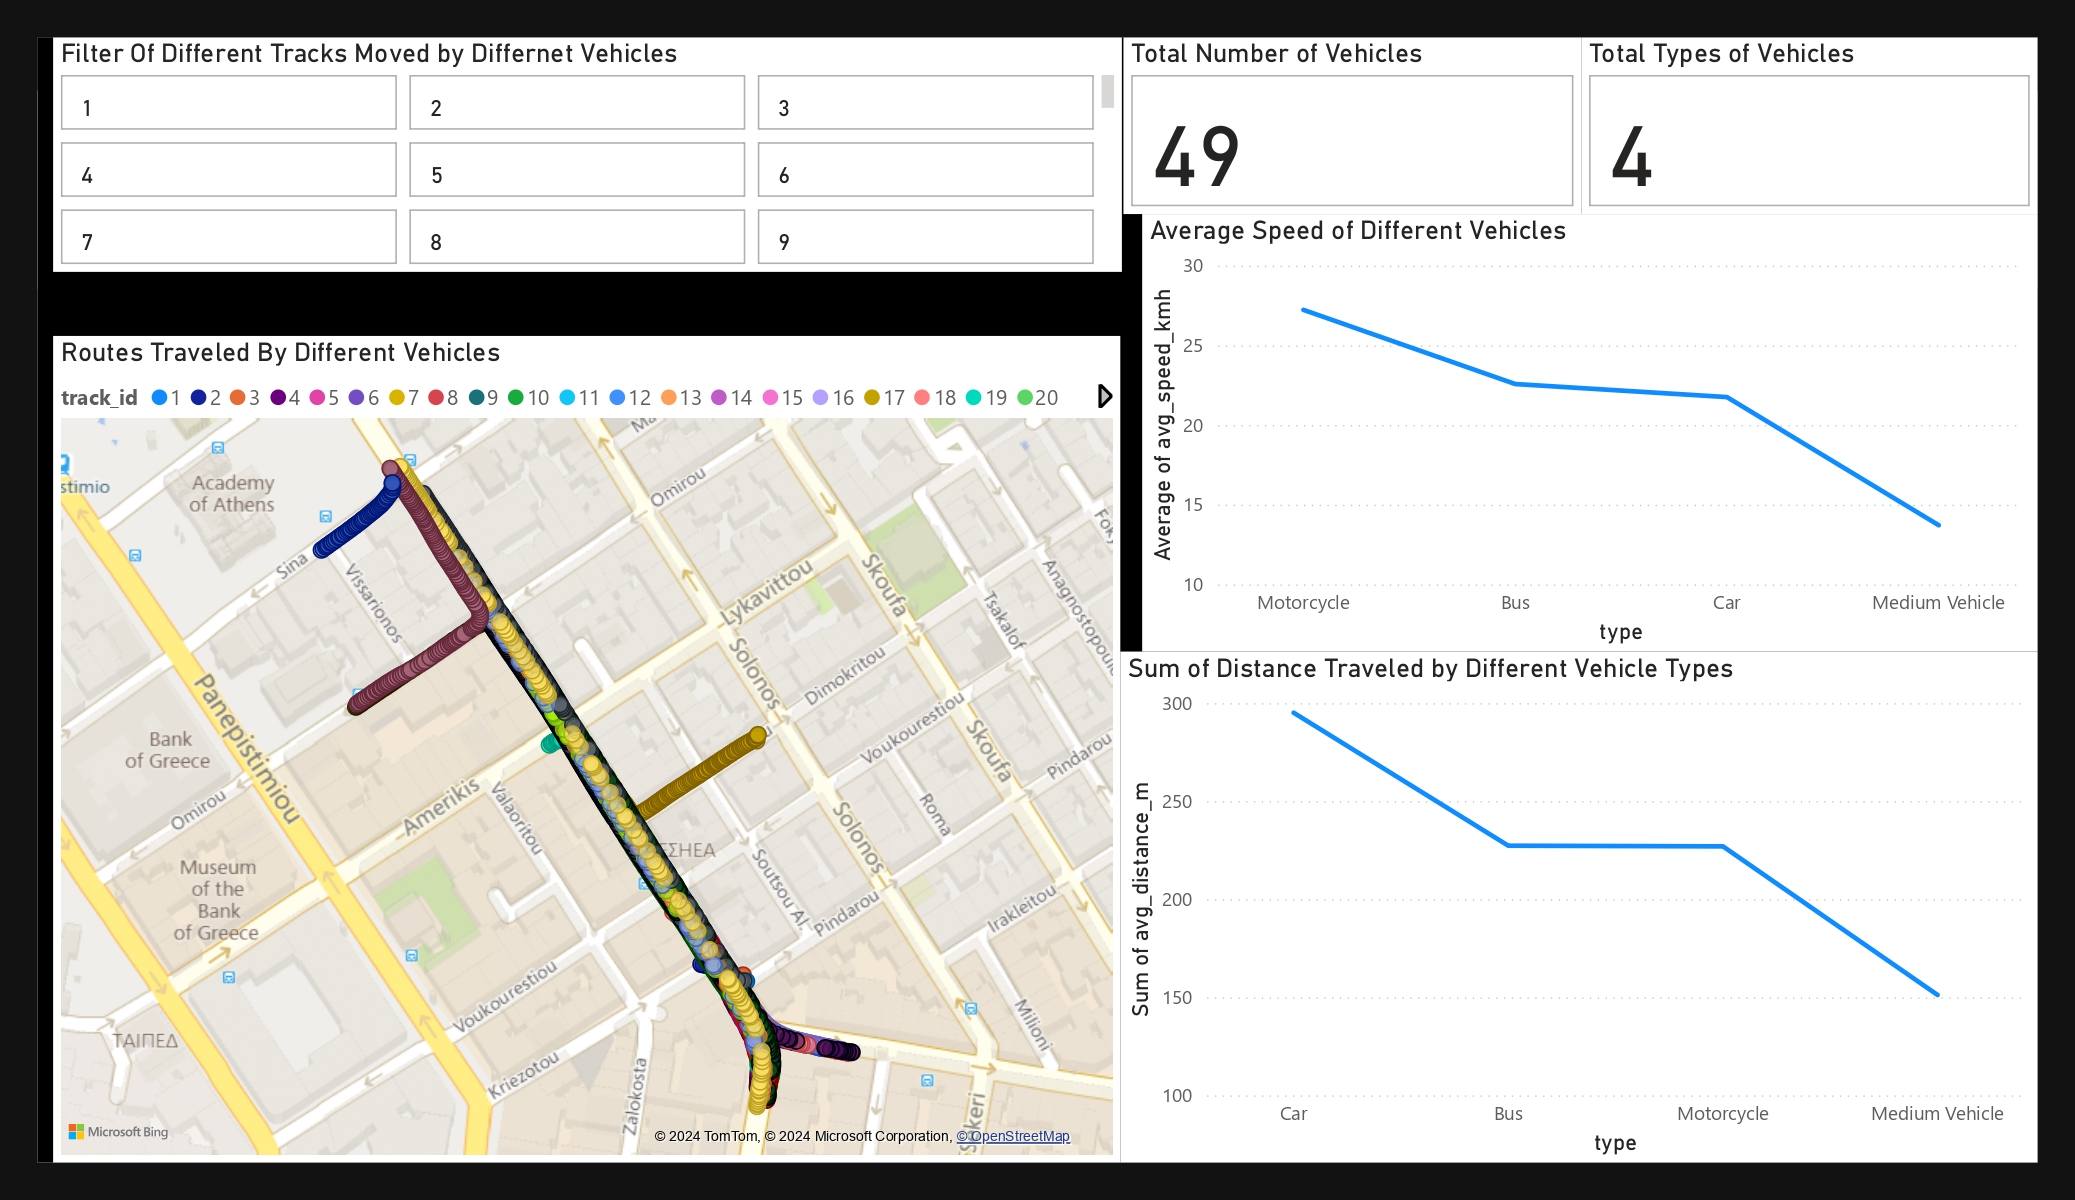

The dashboard page shown, as its layout file describes it:
{"tool":"powerbi","page":{"name":"Overview","canvas":[1280,720],"ordinal":0},"visuals":[{"type":"map","title":"Routes Traveled By Different Vehicles","fields":{"Y":["public dimensional_df.lat"],"X":["public dimensional_df.lon"],"Series":["public dimensional_df.track_id"]},"box":[9.9,190.6,683.5,529.1],"z":0},{"type":"lineChart","title":"Sum of Distance Traveled by Different Vehicle Types","fields":{"Category":["public average_distance_by_vehicle_type.type"],"Y":["Sum(public average_distance_by_vehicle_type.avg_distance_m)"]},"box":[693.4,392.7,586.6,327],"z":1000},{"type":"cardVisual","title":"Total Number of Vehicles","fields":{"Data":["CountNonNull(public fact_df.traveled_d)"]},"box":[695,0,292.5,113.4],"z":2000},{"type":"cardVisual","title":"Total Types of Vehicles","fields":{"Data":["Count(public fact_df.type)"]},"box":[987.5,0,292.5,113.4],"z":3000},{"type":"advancedSlicerVisual","title":"Filter Of Different Tracks Moved by Differnet Vehicles","fields":{"Values":["public dimensional_df.track_id"]},"box":[10,0,684,150],"z":4000},{"type":"lineChart","title":"Average Speed of Different Vehicles","fields":{"Y":["Avg(public average_speed_by_vehicle_type.avg_speed_kmh)"],"Category":["public average_speed_by_vehicle_type.type"]},"box":[706.5,113.4,573.5,279.3],"z":5000}]}

Visuals, with their boxes on the page's 1280x720 design canvas (x1, y1, x2, y2). These are canvas units, not pixel positions in the 2075x1200 screenshot, which may show the page scaled, cropped or inside an application window:
"Routes Traveled By Different Vehicles" map: crop(10, 191, 693, 720)
"Sum of Distance Traveled by Different Vehicle Types" lineChart: crop(693, 393, 1280, 720)
"Total Number of Vehicles" cardVisual: crop(695, 0, 988, 113)
"Total Types of Vehicles" cardVisual: crop(988, 0, 1280, 113)
"Filter Of Different Tracks Moved by Differnet Vehicles" advancedSlicerVisual: crop(10, 0, 694, 150)
"Average Speed of Different Vehicles" lineChart: crop(706, 113, 1280, 393)
